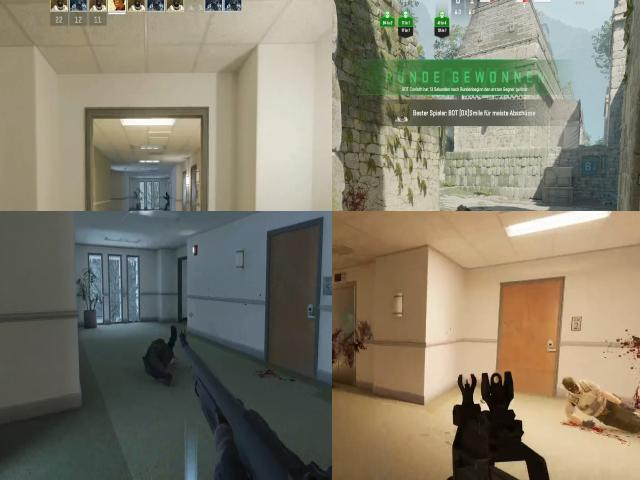CT: (163, 190, 170, 211)
Dead: (557, 365, 640, 442), (145, 328, 180, 386), (449, 195, 476, 211), (495, 205, 537, 211)
